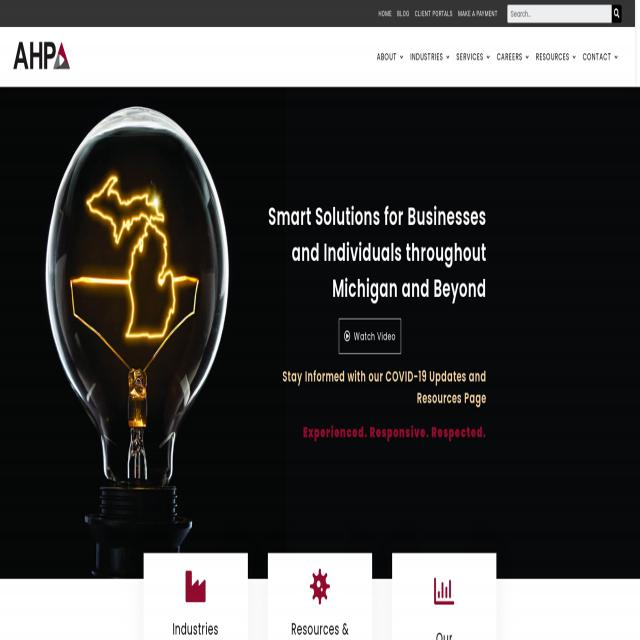button: (268, 553, 372, 640), (393, 553, 496, 640), (144, 555, 248, 640), (339, 318, 401, 354), (14, 42, 70, 69), (532, 42, 580, 72), (407, 42, 453, 72), (453, 42, 493, 72), (412, 0, 456, 27), (456, 0, 500, 27), (493, 42, 532, 72), (581, 42, 620, 71), (373, 42, 407, 72), (376, 0, 394, 27), (394, 0, 412, 27), (612, 5, 622, 22)
field: (507, 5, 612, 24)
